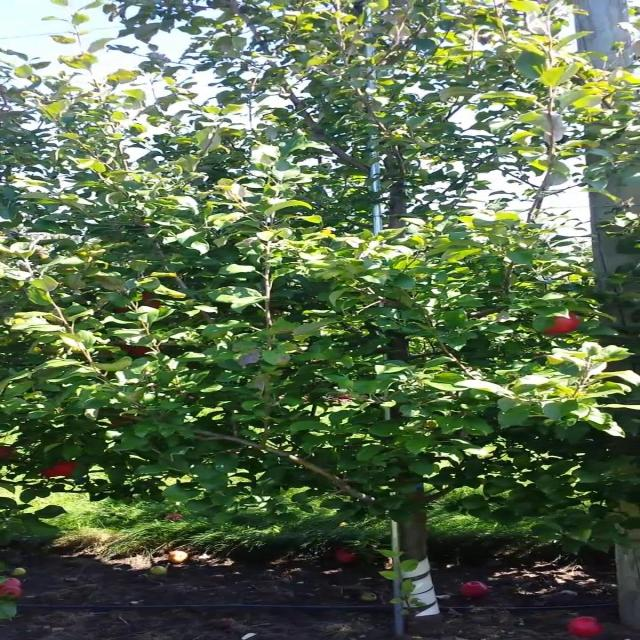apple: (547, 316, 583, 336), (141, 292, 164, 308), (56, 460, 78, 476), (127, 344, 151, 357), (42, 468, 60, 478), (6, 448, 18, 459)
